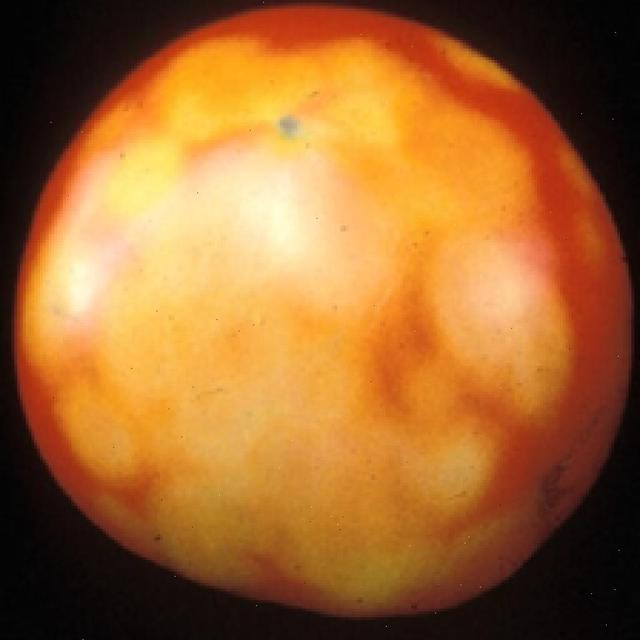Spotted wilt Virus Fruit: (9, 4, 424, 412)
